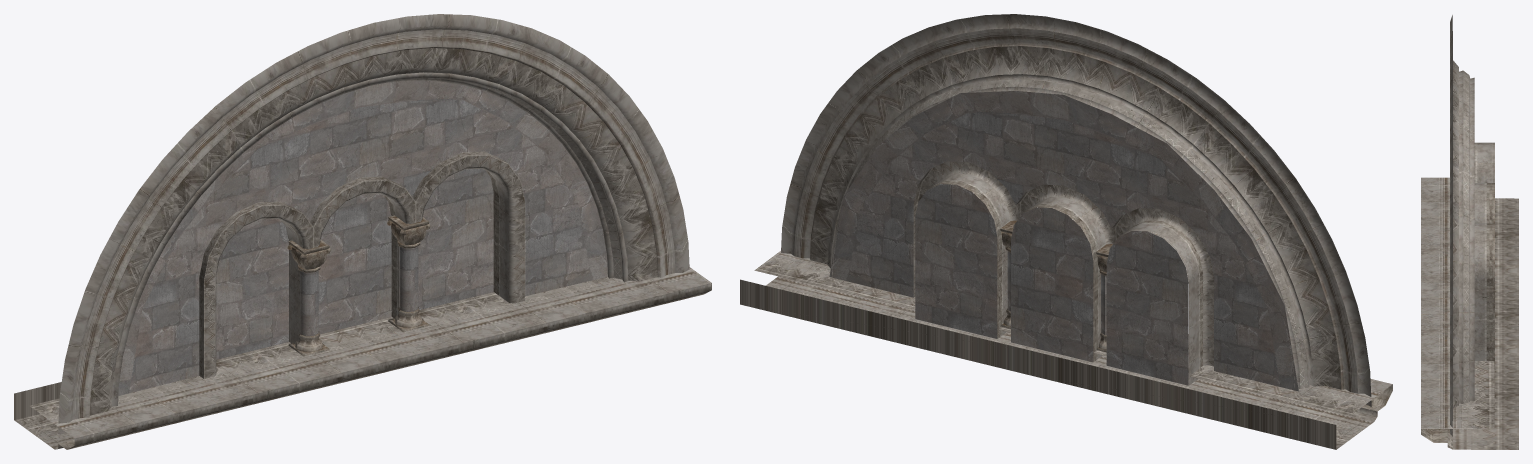
3 renders of one model, left to right at view 1: azimuth 30°, elevation 25°; view 2: azimuth 150°, elevation 25°; view 3: azimuth 270°, elevation 25°, orthographic. The views are drawn at different scales.
Parts seen in each view (by area): view 1: Sm_Dungeon_BlindArcadeWallTop_LOD0; view 2: Sm_Dungeon_BlindArcadeWallTop_LOD0; view 3: Sm_Dungeon_BlindArcadeWallTop_LOD0.
Part boxes in pixels (x1,y1,x2,y2): Sm_Dungeon_BlindArcadeWallTop_LOD0: (14,14,711,449); Sm_Dungeon_BlindArcadeWallTop_LOD0: (740,14,1392,449); Sm_Dungeon_BlindArcadeWallTop_LOD0: (1421,15,1518,449).
Bounding box in the file's own units: 7.4 × 3.88 × 1.22.
3 materials, 3 textured.
